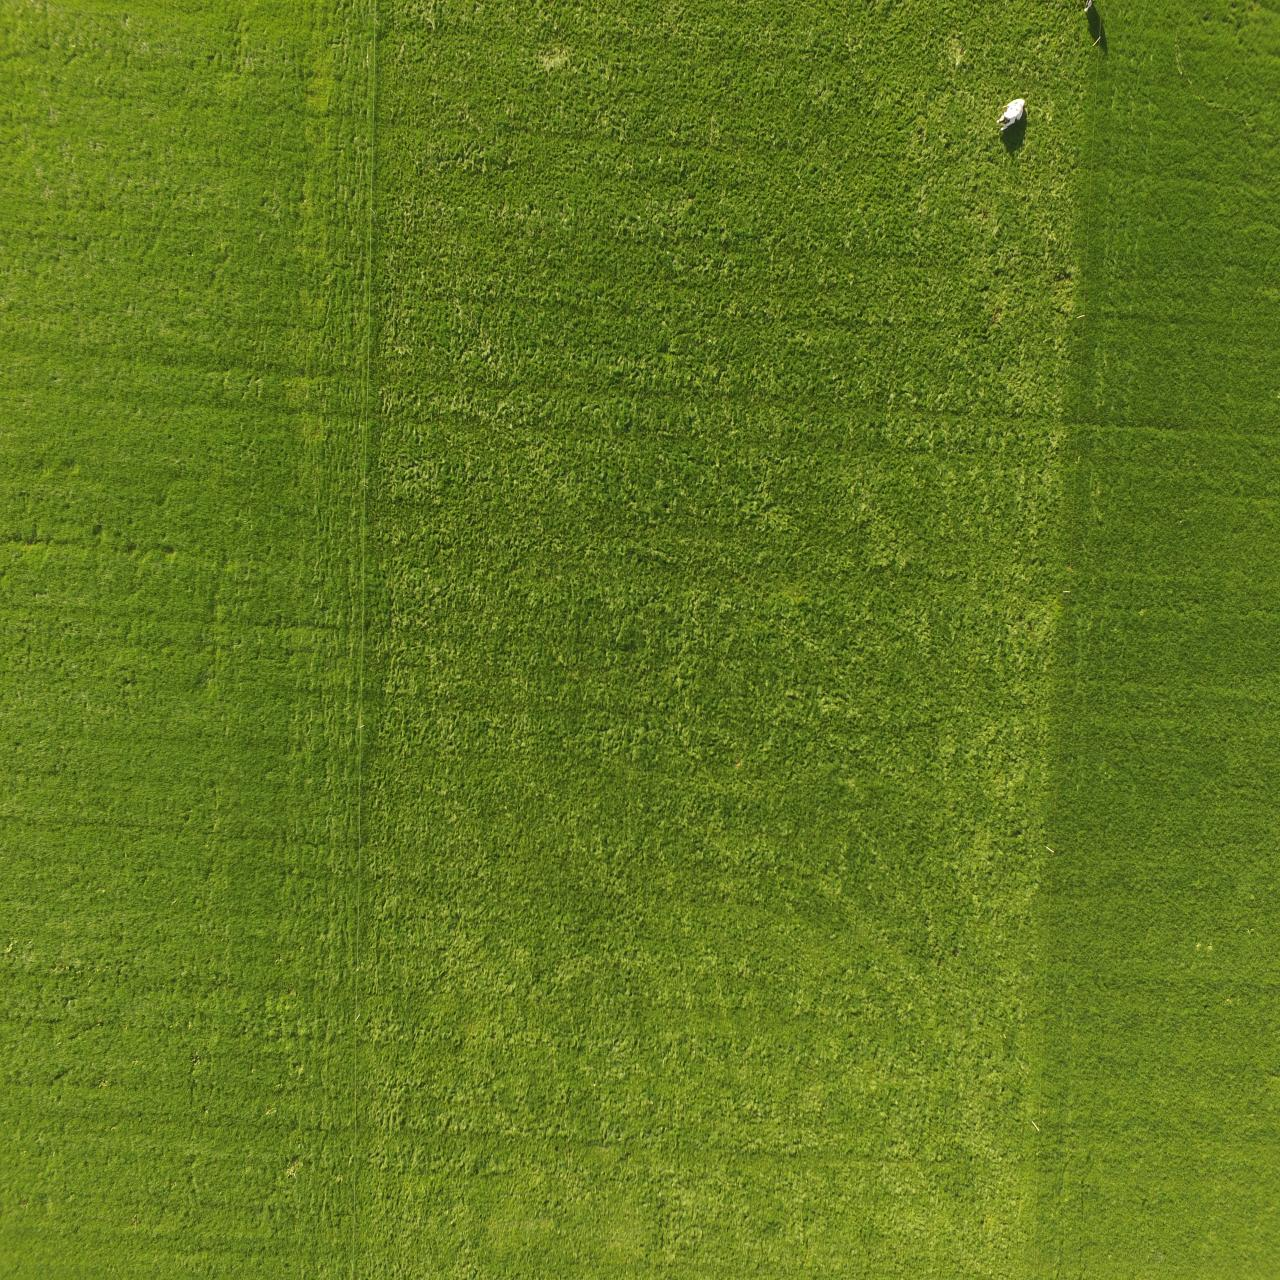cow: (994, 93, 1029, 139)
